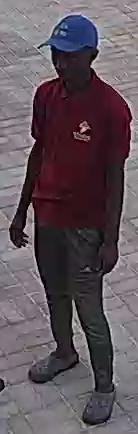no_apron: (30, 75, 136, 232)
